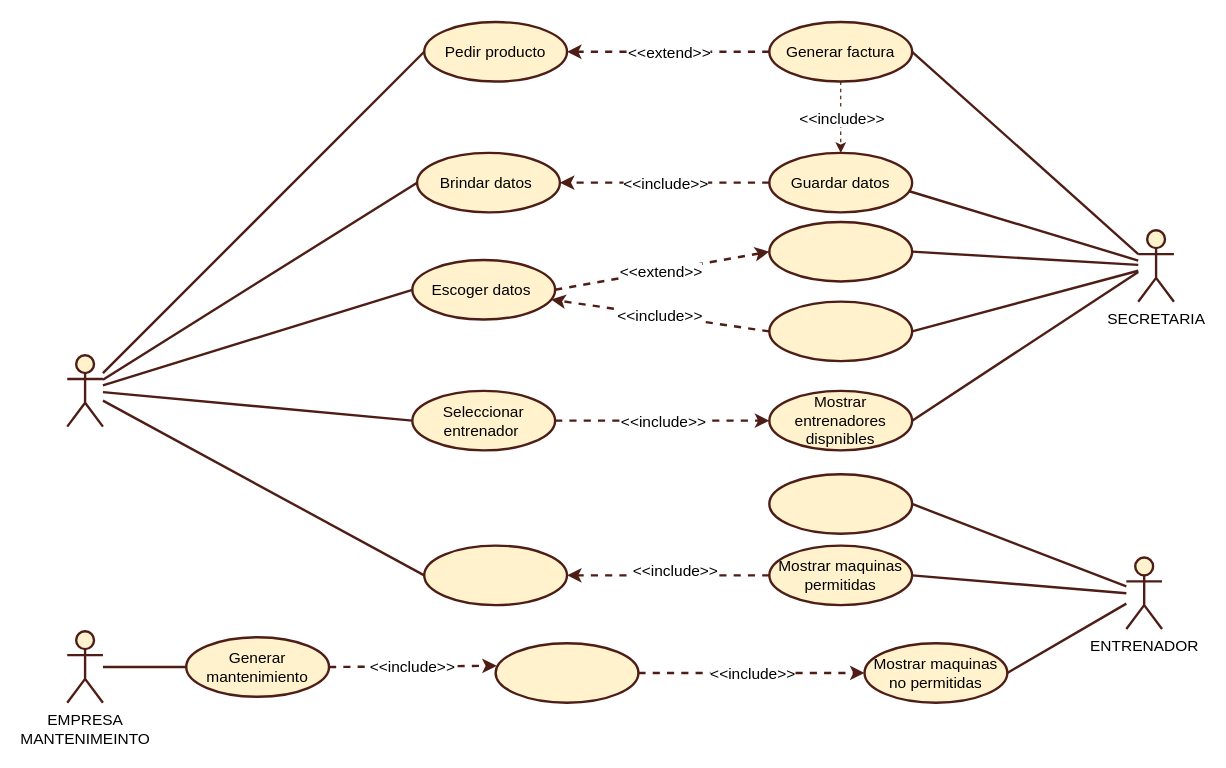
Some shapes in this 1226 by 768 pixel diagram are drawn without their labels. Here are the shapes that lost their labels. From the top down, the centre of each, then its label:
point (840, 251): Mostrar planes y seccion
point (840, 331): Generar ingreso
point (84, 390): CLIENTE
point (840, 503): Establece una rutina
point (495, 575): Solicitar maquina
point (566, 672): Enviar maquina a mantenimiento
